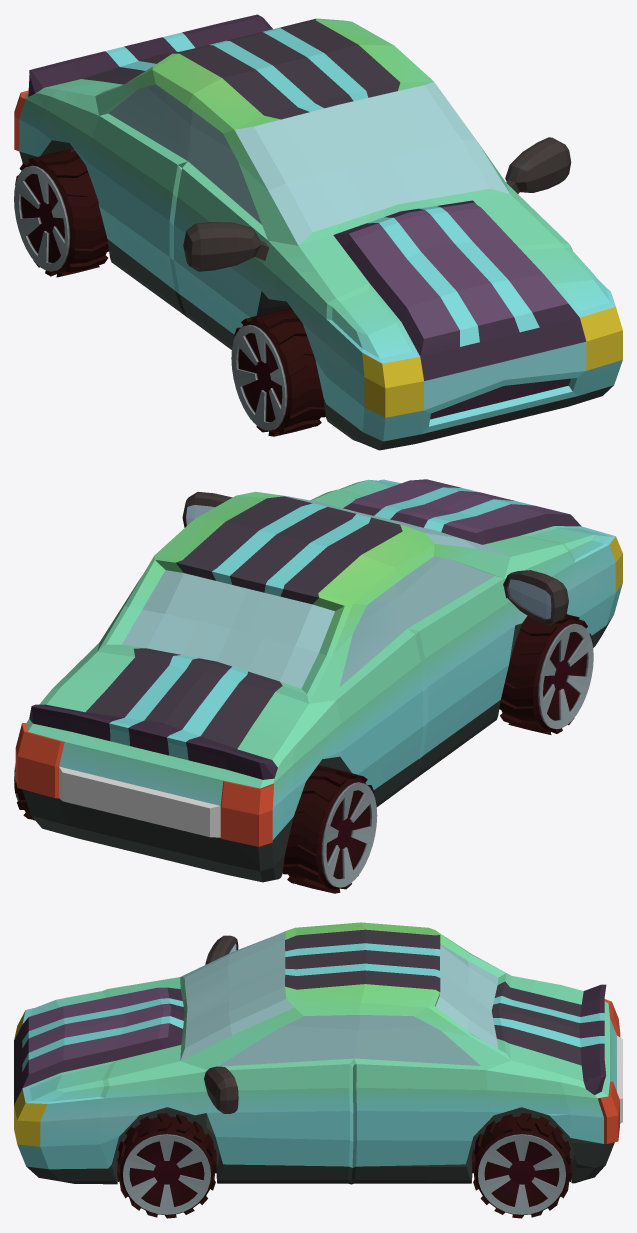
Rendered from машинка 8.fbx.
3 views of the same model, one above another, from view 1: azimuth 30°, elevation 25°; view 2: azimuth 150°, elevation 25°; view 3: azimuth 270°, elevation 25° (orthographic). The views are drawn at different scales.
Visible parts, largest first — view 1: Car2.006, Cylinder.001, Cylinder, Zerk2.006; view 2: Car2.006, Cylinder.001, Cylinder, Zerk2.006; view 3: Car2.006, Cylinder.003, Cylinder.002, Zerk2.006.
Part boxes in pixels (x1,y1,x2,y2): Car2.006: (14, 14, 622, 450); Cylinder.001: (14, 149, 108, 277); Cylinder: (231, 308, 325, 436); Zerk2.006: (183, 137, 571, 271); Car2.006: (15, 479, 622, 882); Cylinder.001: (282, 765, 377, 893); Cylinder: (499, 614, 593, 734); Zerk2.006: (182, 491, 568, 625); Car2.006: (14, 922, 622, 1184); Cylinder.003: (117, 1113, 216, 1218); Cylinder.002: (472, 1113, 571, 1218); Zerk2.006: (204, 935, 238, 1113).
Bounding box in the file's own units: 355 × 218 × 601.
